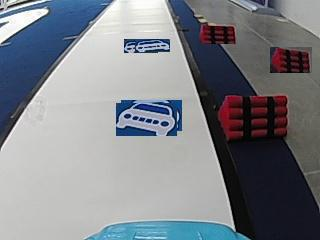bomb: (219, 95, 288, 140)
